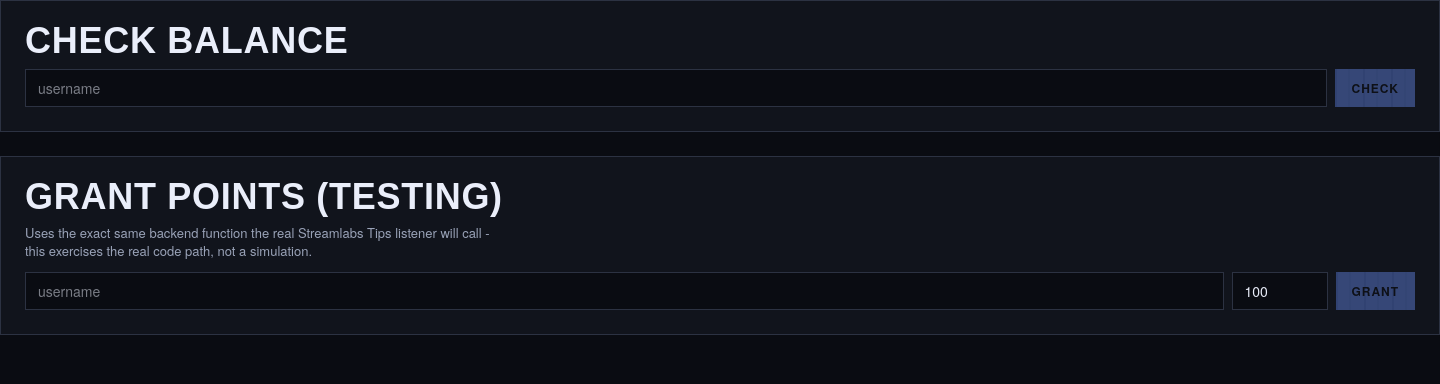
Test: PointsTool › looks up a balance and displays the result
The width and height of the screenshot is (1440, 384).
Type "someviewer" into the field with placeholder "username" below "Check Balance" at (676, 88), box x1=25 y1=69 x2=1328 y2=107
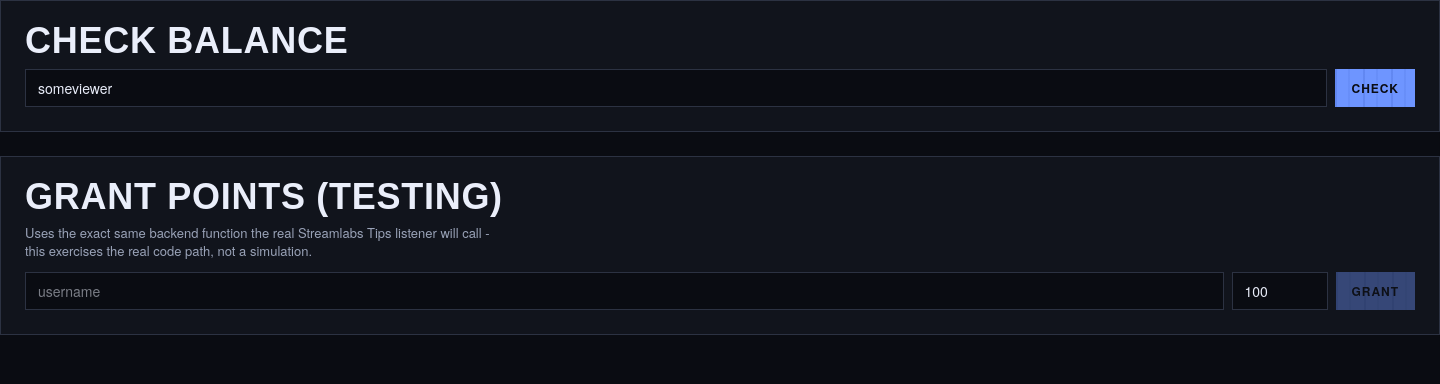
Click the button "Check" at (1375, 88), box x1=1336 y1=69 x2=1415 y2=107
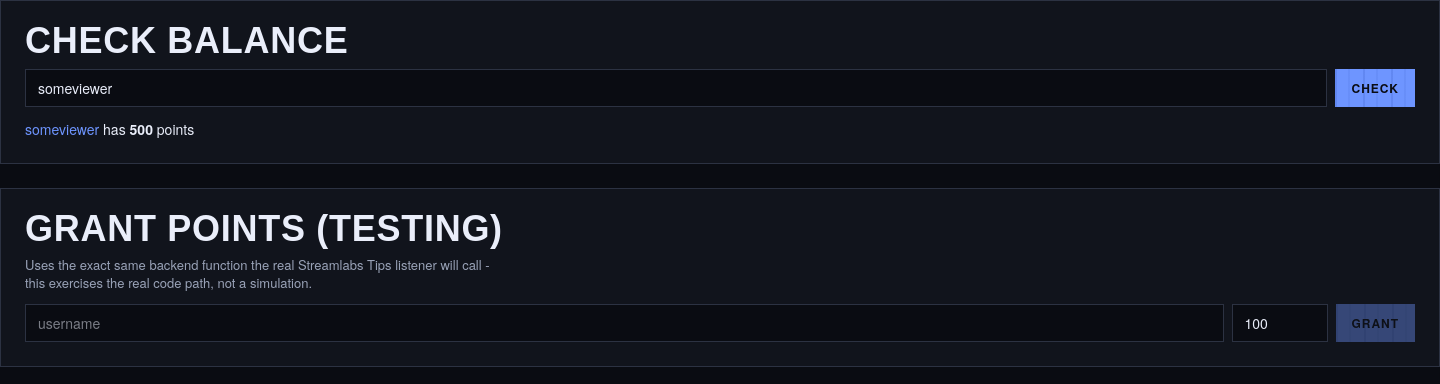
Now the text "500" is shown, box x1=130 y1=119 x2=153 y2=139
Now the text "someviewer" is shown, box x1=25 y1=119 x2=99 y2=139
